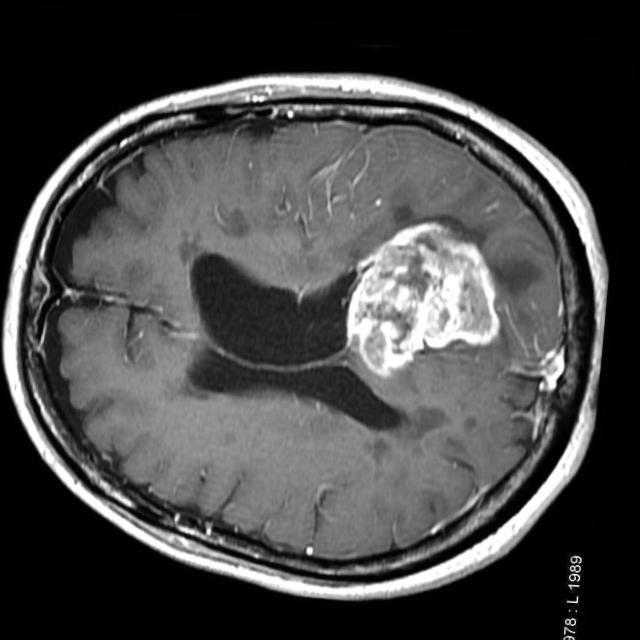Tumor: (352, 212, 502, 369)
